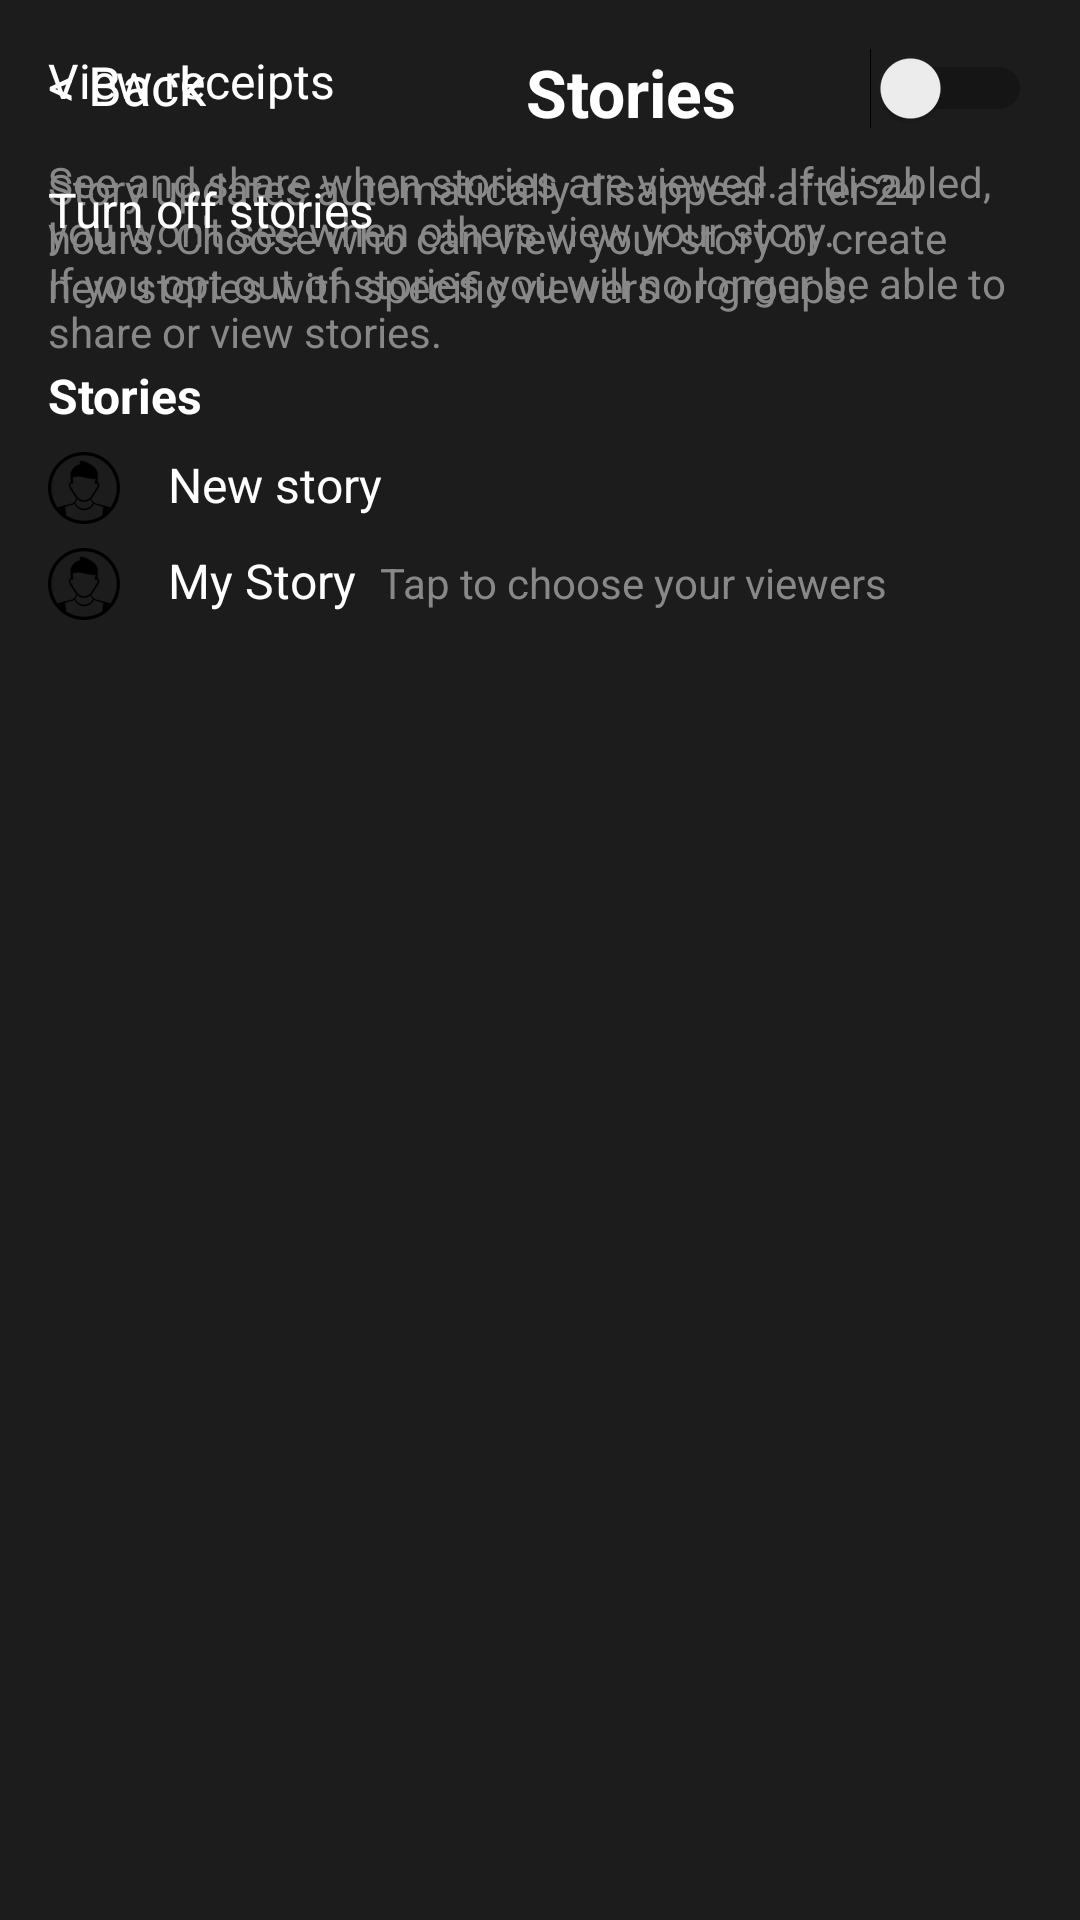

Where icons sit on this 1080 × 1920 app screen, as (x1, y1, x2, y2):
profile: (48, 452, 120, 524), (48, 548, 120, 620)
